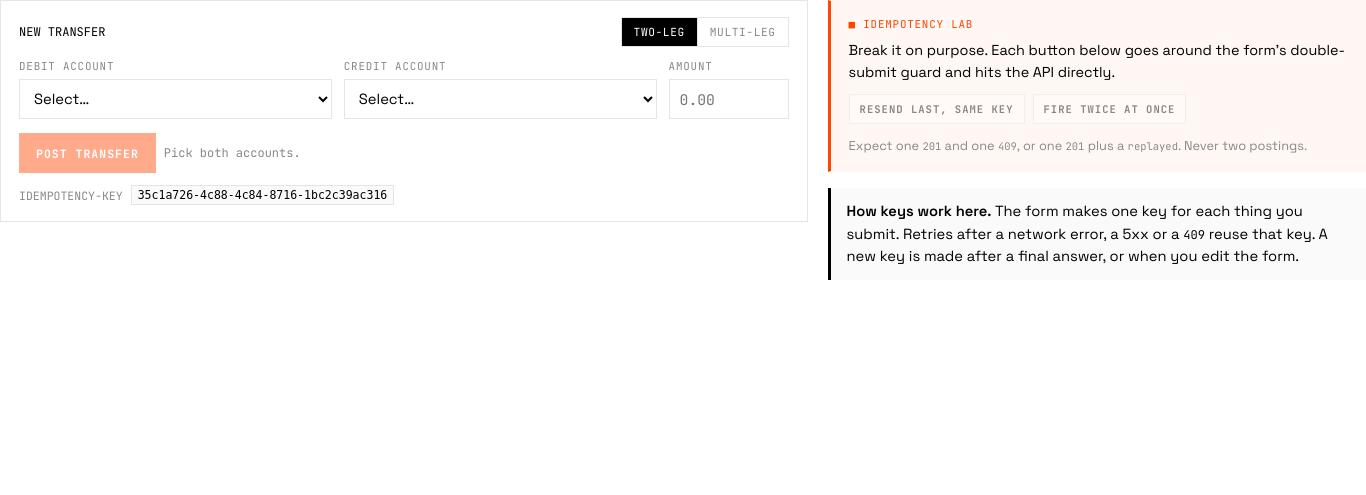
TransferForm › reuses the same key when retrying after a network error
Select "#1 Funding · $0.00" in the dropdown labelled "Debit account". click: (175, 99)
box: x1=19 y1=79 x2=332 y2=119
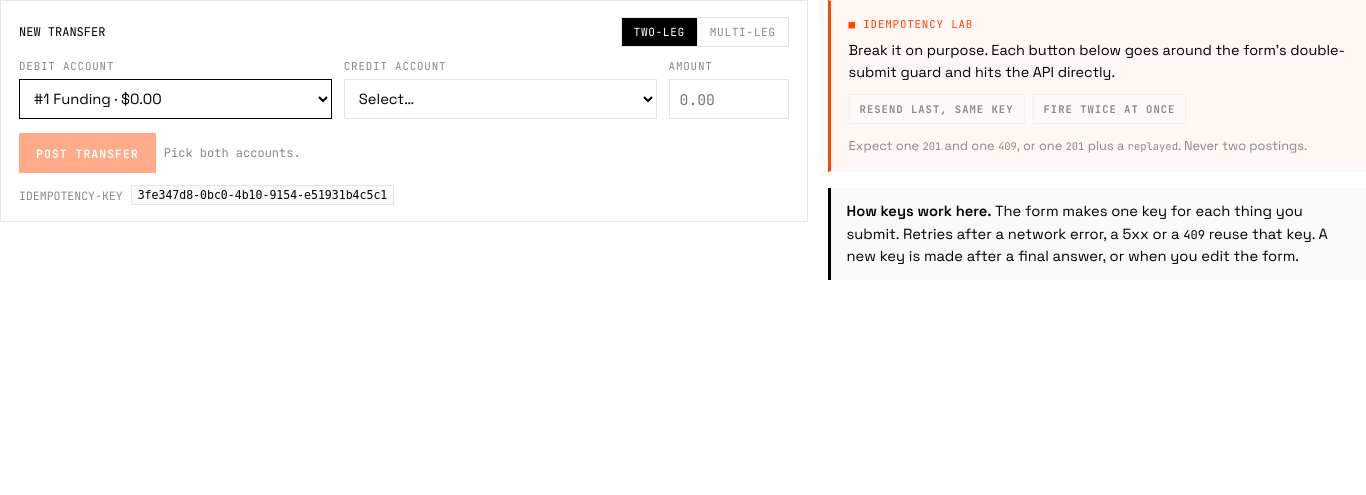
Select "#2 Alice · $10.00" in the dropdown labelled "Credit account". click: (500, 99)
box: x1=344 y1=79 x2=657 y2=119
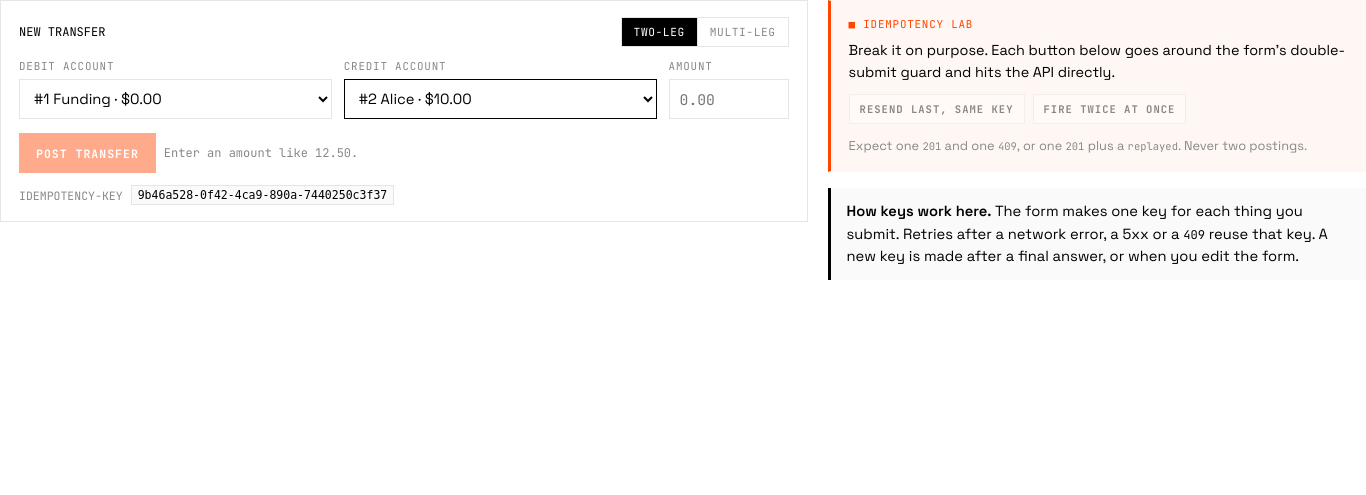
Type "10.00" into the field labelled "Amount". click: (729, 99)
box: x1=669 y1=79 x2=789 y2=119
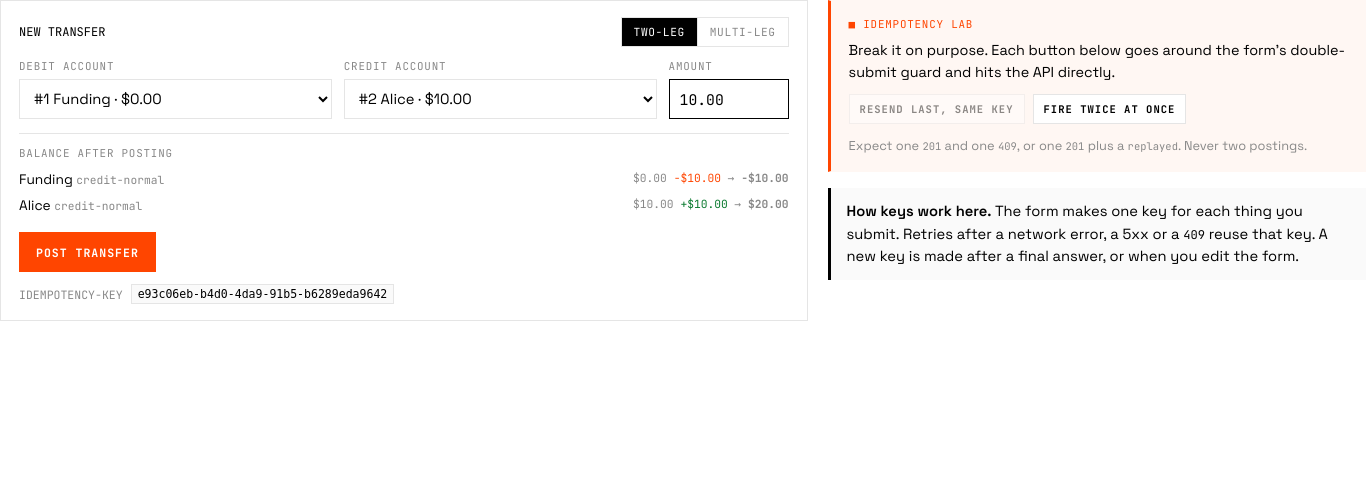
Click the button "Post transfer". click: (87, 252)
box: x1=19 y1=232 x2=156 y2=272
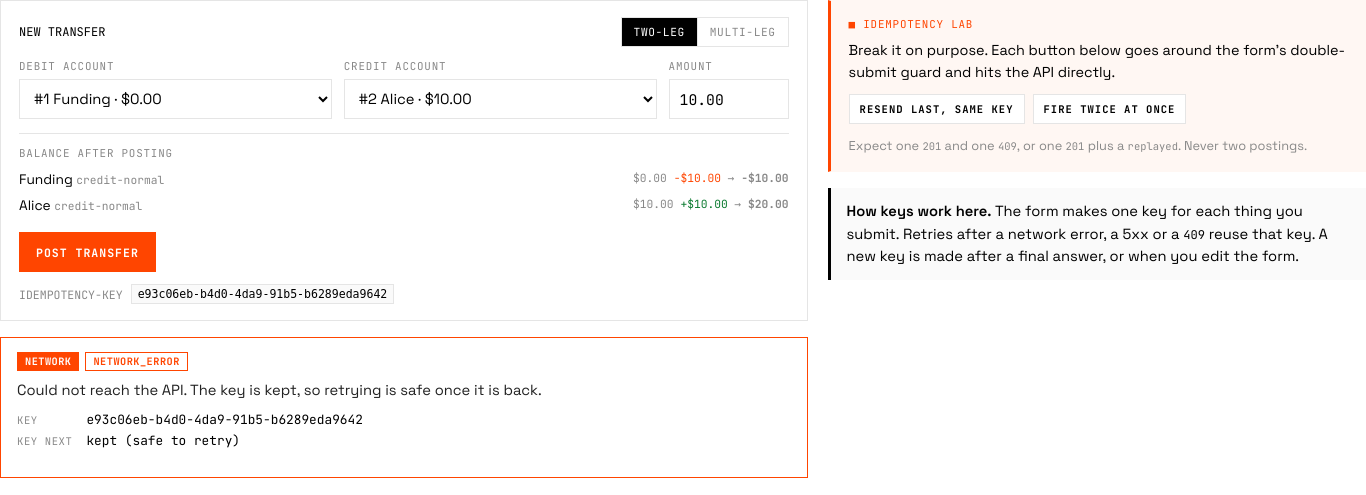
Now the message is shown, box x1=0 y1=337 x2=808 y2=478
Click the button "Post transfer". click: (87, 252)
box: x1=19 y1=232 x2=156 y2=272
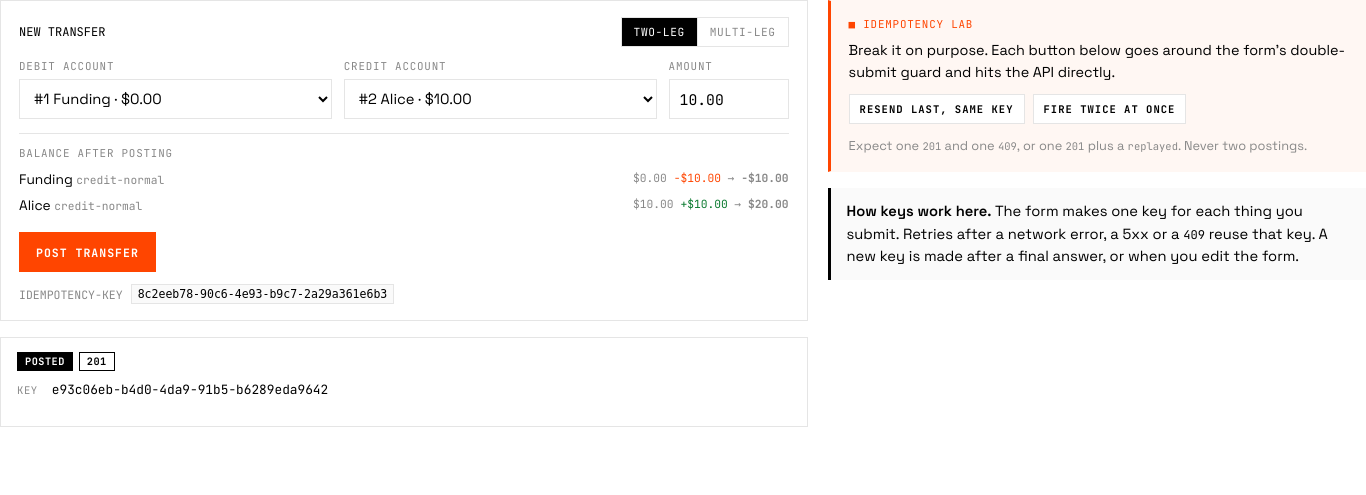
Now the message is shown, box x1=0 y1=337 x2=808 y2=427
